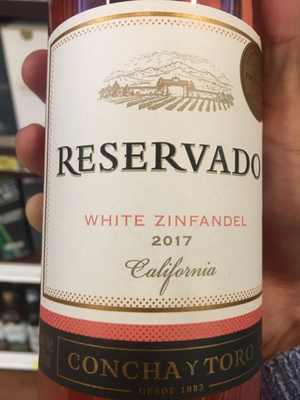reservado white zinfandel: (43, 5, 272, 400)
